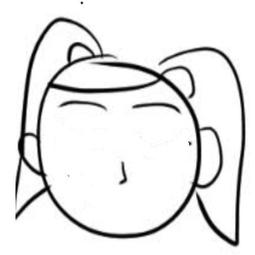ear: (14, 130, 46, 178)
eyebrow: (124, 100, 184, 116), (55, 97, 110, 112)
large_ear: (186, 127, 226, 191)
pointy_nose: (114, 152, 133, 188)
